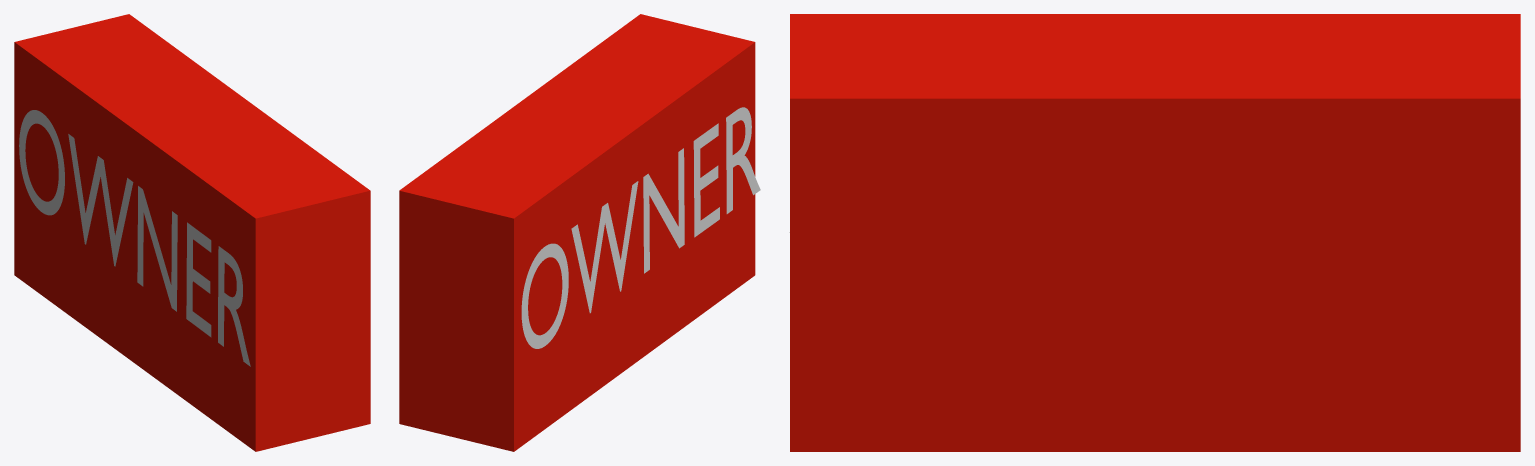
Rendered from OWNER.fbx.
3 renders of one model, left to right at view 1: azimuth 30°, elevation 25°; view 2: azimuth 150°, elevation 25°; view 3: azimuth 270°, elevation 25°, orthographic. The views are drawn at different scales.
Parts seen in each view (by area): view 1: Cube, Text; view 2: Cube, Text; view 3: Cube.
Part boxes in pixels (<box>): Cube: <box>14,14,370,451</box>; Text: <box>19,110,250,366</box>; Cube: <box>399,14,755,451</box>; Text: <box>521,107,760,348</box>; Cube: <box>790,14,1520,451</box>.
Size of the model in its own units: 36.35 by 67.55 by 127.
